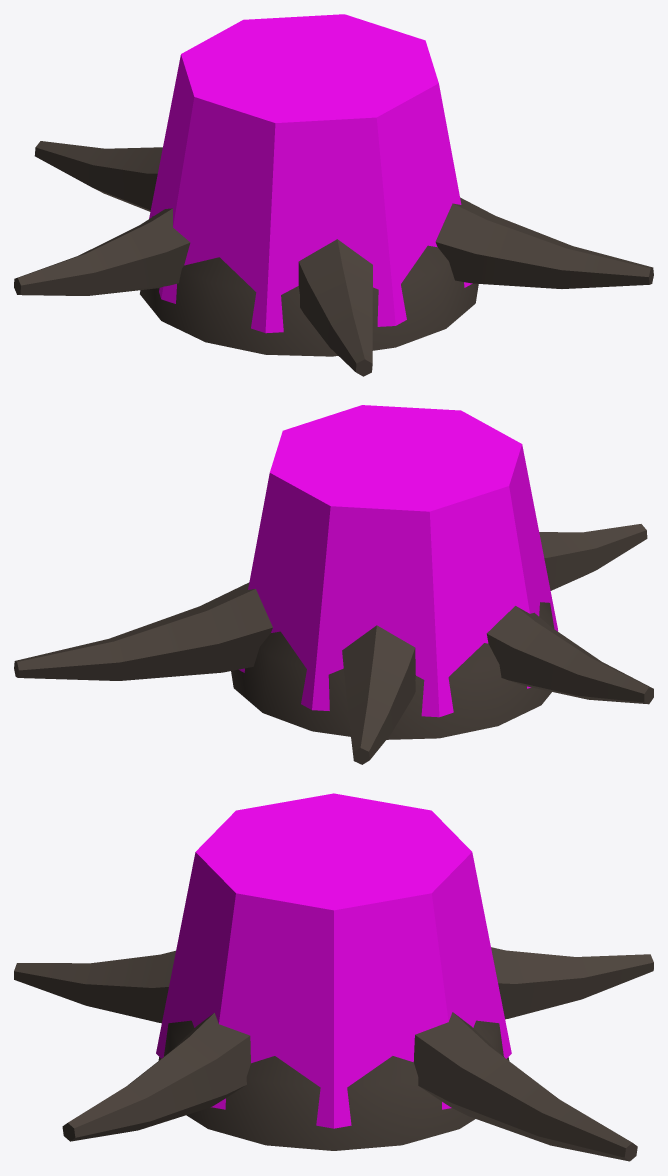
File: EN_Stump.fbx
The picture shows the model from 3 angles, top to bottom: view 1: azimuth 30°, elevation 25°; view 2: azimuth 150°, elevation 25°; view 3: azimuth 270°, elevation 25°; orthographic projection. The views are drawn at different scales.
Parts seen in each view (by area): view 1: COL_Stump, EN_Stump_LOD0; view 2: COL_Stump, EN_Stump_LOD0; view 3: COL_Stump, EN_Stump_LOD0.
Boxes of the visible parts, box(x1,y1,x2,y2) form: COL_Stump: box(149, 14, 472, 333); EN_Stump_LOD0: box(14, 141, 653, 376); COL_Stump: box(239, 405, 558, 717); EN_Stump_LOD0: box(14, 524, 653, 764); COL_Stump: box(156, 793, 511, 1128); EN_Stump_LOD0: box(14, 947, 653, 1161).
Size of what is drawn, in the model's own units: 1.27 by 0.5 by 1.29.
